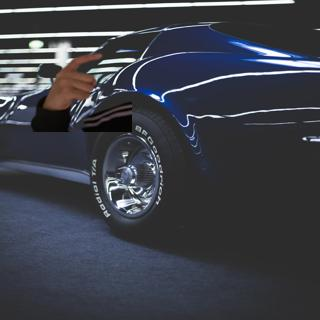WHY: (43, 47, 105, 112)
